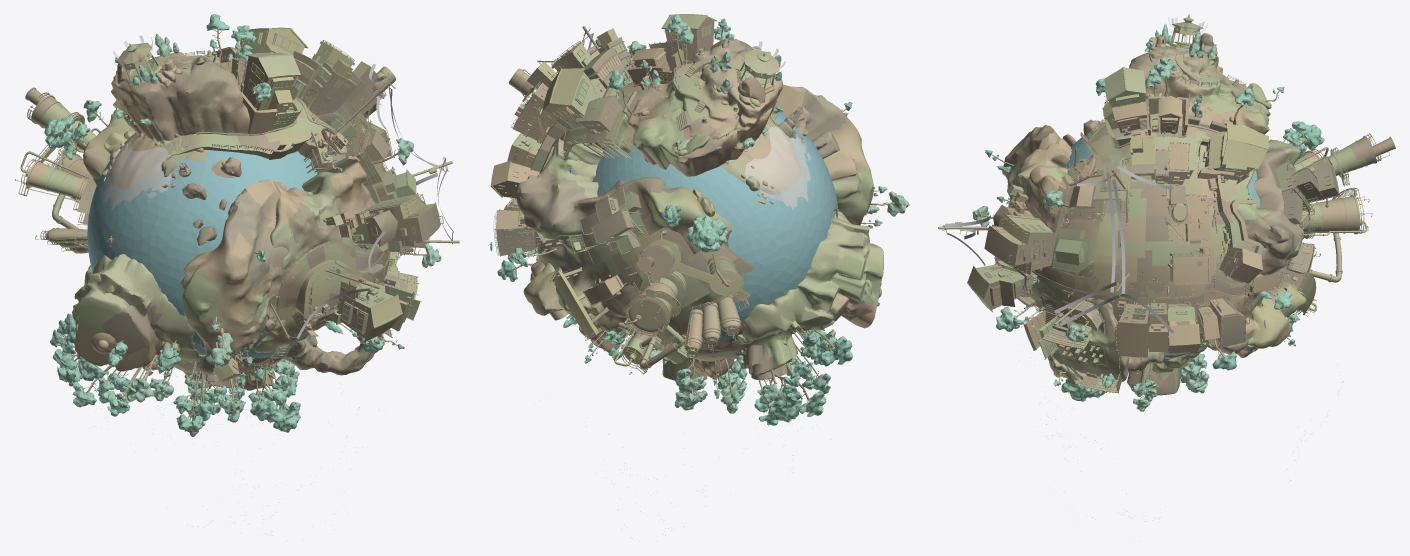
3 renders of one model, left to right at view 1: azimuth 30°, elevation 25°; view 2: azimuth 150°, elevation 25°; view 3: azimuth 270°, elevation 25°, orthographic. The views are drawn at different scales.
Visible parts, largest first — view 1: water, terrain_5, terrain_2, terrain_1, terrain_0, terrain_3, terrain_7, terrain_6, terrain_8, terrain_4, tree_leaves_0, tree_leaves_2 (+4 smaller); view 2: terrain_0, water, terrain_5, terrain_1, terrain_4, terrain_2, terrain_8, terrain_3, terrain_7, terrain_6, beachfoam_vfx, tree_leaves_2 (+4 smaller); view 3: terrain_6, terrain_3, terrain_1, terrain_0, terrain_4, terrain_8, terrain_2, terrain_7, terrain_5, tree_leaves_1, tree_leaves_0, cables-1 (+3 smaller).
Part boxes in pixels (bbox=[...]): water: bbox=[87, 132, 317, 358]; terrain_5: bbox=[25, 29, 416, 397]; terrain_2: bbox=[47, 48, 443, 419]; terrain_1: bbox=[21, 53, 422, 402]; terrain_0: bbox=[25, 28, 453, 415]; terrain_3: bbox=[19, 27, 452, 383]; terrain_7: bbox=[25, 28, 426, 403]; terrain_6: bbox=[60, 40, 426, 391]; terrain_8: bbox=[47, 40, 459, 403]; terrain_4: bbox=[14, 49, 427, 417]; tree_leaves_0: bbox=[44, 14, 358, 434]; tree_leaves_2: bbox=[50, 100, 272, 436]; terrain_0: bbox=[513, 36, 883, 379]; water: bbox=[592, 112, 837, 348]; terrain_5: bbox=[512, 14, 883, 388]; terrain_1: bbox=[493, 27, 894, 394]; terrain_4: bbox=[493, 26, 848, 402]; terrain_2: bbox=[491, 27, 833, 400]; terrain_8: bbox=[508, 34, 876, 369]; terrain_3: bbox=[512, 28, 766, 371]; terrain_7: bbox=[492, 17, 822, 384]; terrain_6: bbox=[490, 28, 828, 416]; beachfoam_vfx: bbox=[744, 127, 811, 210]; tree_leaves_2: bbox=[497, 102, 852, 422]; terrain_6: bbox=[1006, 34, 1346, 357]; terrain_3: bbox=[967, 22, 1372, 393]; terrain_1: bbox=[938, 34, 1371, 359]; terrain_0: bbox=[976, 14, 1366, 399]; terrain_4: bbox=[974, 78, 1339, 388]; terrain_8: bbox=[996, 22, 1368, 392]; terrain_2: bbox=[961, 46, 1324, 392]; terrain_7: bbox=[991, 32, 1395, 395]; terrain_5: bbox=[992, 23, 1348, 389]; tree_leaves_1: bbox=[972, 31, 1236, 411]; tree_leaves_0: bbox=[997, 23, 1324, 401]; cables-1: bbox=[1054, 165, 1173, 333].
Bounding box in the file's own units: 70.69 × 90.41 × 81.42.
